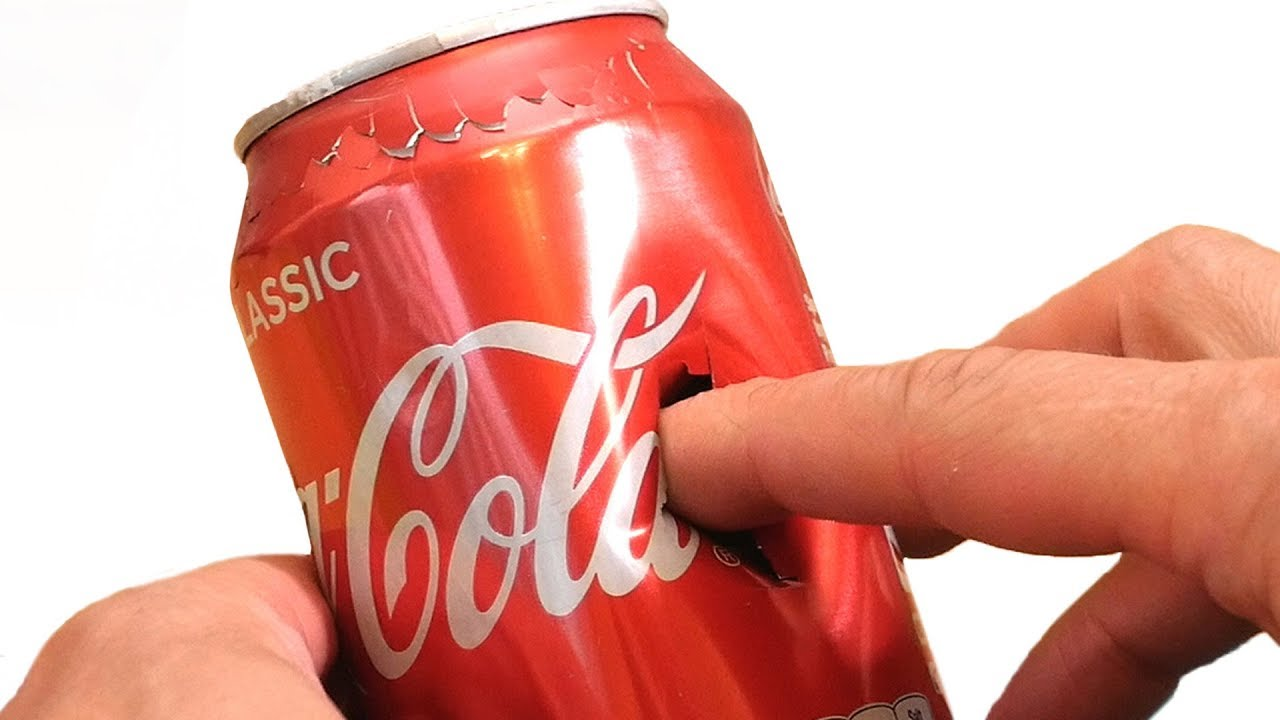coke: (263, 318, 772, 610)
